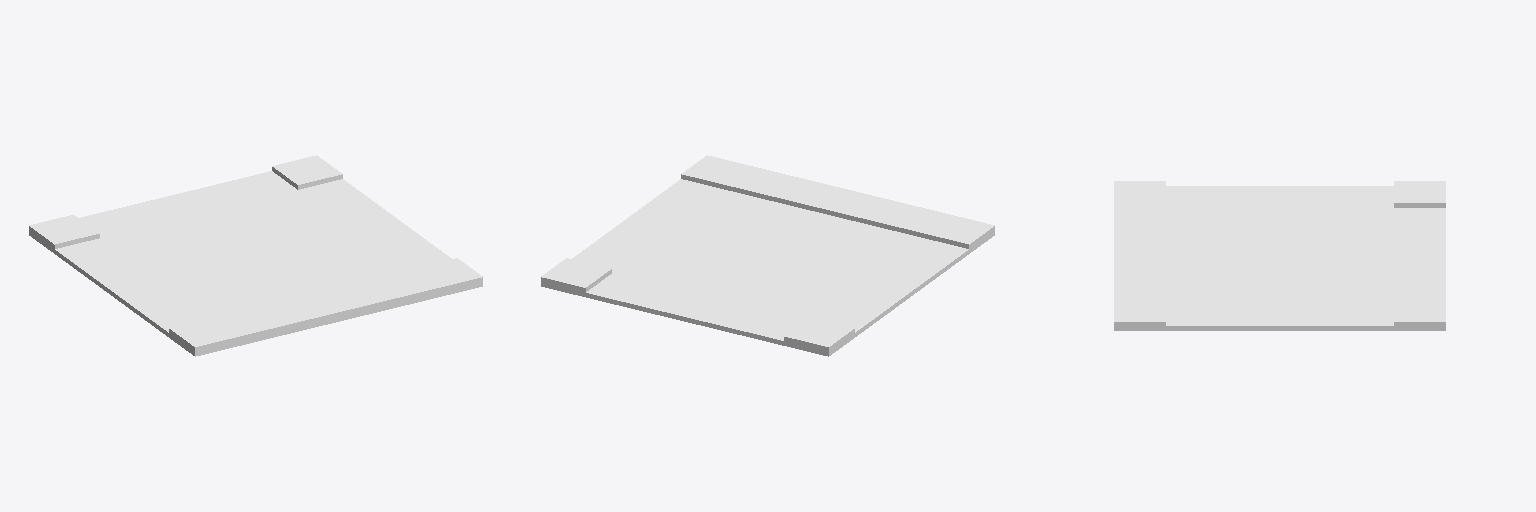
The model's file is RoadT180.obj.
The picture shows the model from 3 angles: view 1: azimuth 30°, elevation 25°; view 2: azimuth 150°, elevation 25°; view 3: azimuth 270°, elevation 25°; orthographic projection.
Parts seen in each view (by area): view 1: object 1; view 2: object 1; view 3: object 1.
Part boxes in pixels (bbox=[...]): object 1: bbox=[29, 155, 482, 356]; object 1: bbox=[541, 155, 994, 356]; object 1: bbox=[1114, 181, 1445, 330].
Size of the model in its own units: 6.4 by 0.2 by 6.4.